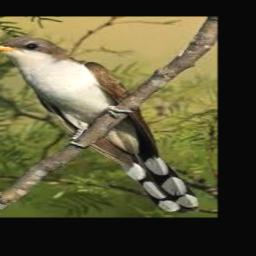Cuckoo: (0, 37, 199, 212)
